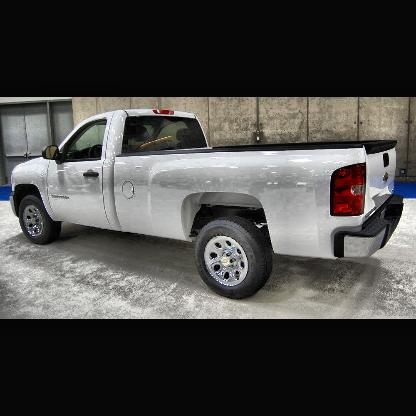Chevrolet Silverado 1500 Regular Cab 2012: (8, 97, 416, 307)
